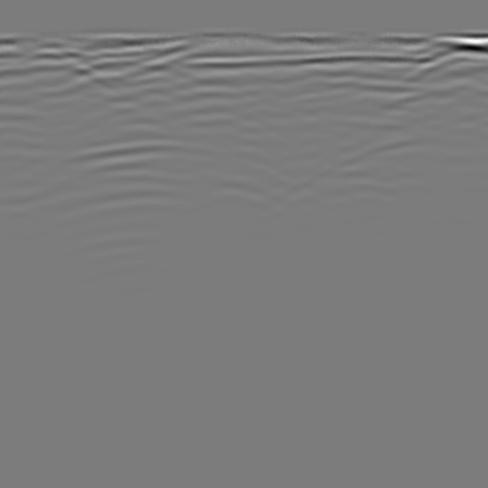hyperbola: (26, 130, 290, 233)
